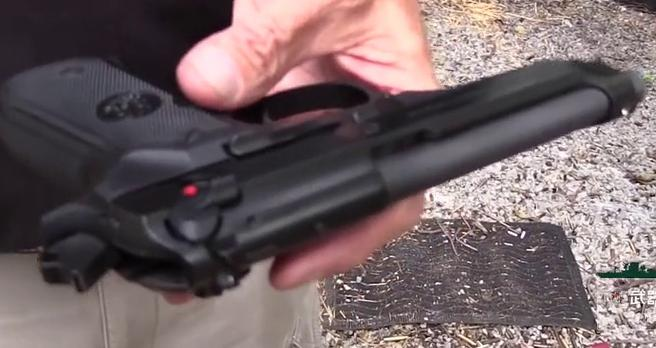gun: (1, 1, 656, 348)
